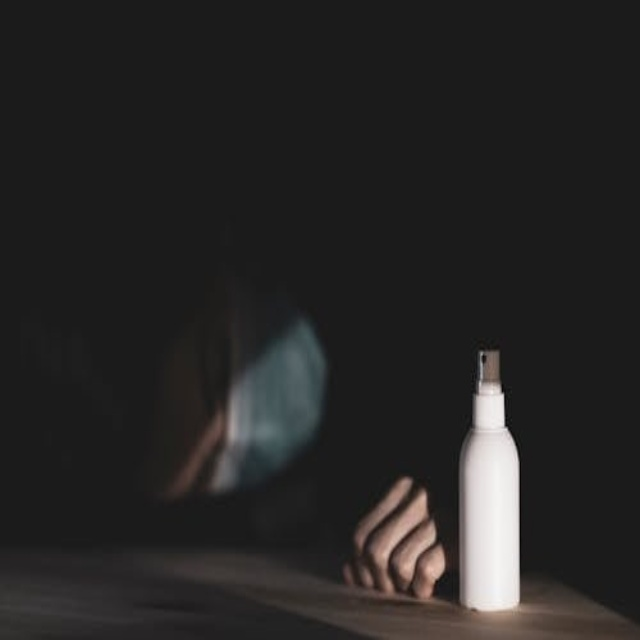Mascara: (210, 259, 326, 507)
Sin_guantes: (342, 472, 448, 600)
